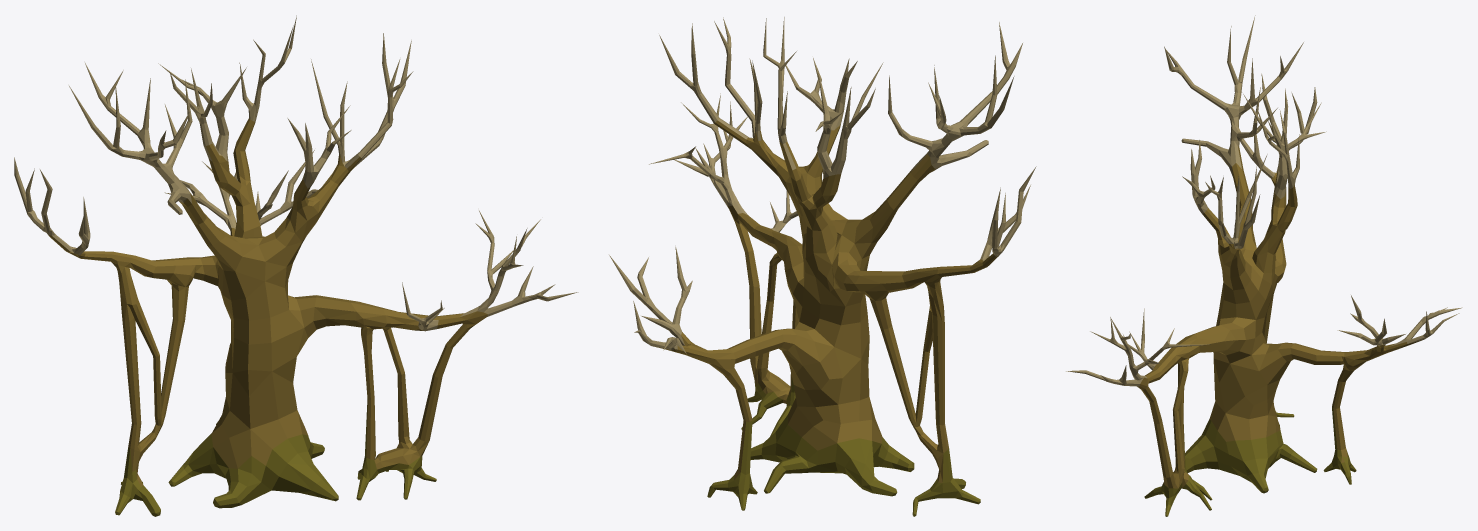
Rendered from SM_Tree_006.glb.
The picture shows the model from 3 angles, left to right: view 1: azimuth 30°, elevation 25°; view 2: azimuth 150°, elevation 25°; view 3: azimuth 270°, elevation 25°; orthographic projection. The views are drawn at different scales.
Visible parts, largest first — view 1: SM_Tree_006; view 2: SM_Tree_006; view 3: SM_Tree_006.
Boxes of the visible parts, x1=… form: SM_Tree_006: x1=14, y1=15, x2=578, y2=516; SM_Tree_006: x1=609, y1=17, x2=1036, y2=516; SM_Tree_006: x1=1066, y1=15, x2=1462, y2=516.
Size of the model in its own units: 10.02 by 10.07 by 9.51.
Materials: 1 (1 with a texture image).
